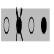correct: (40, 16, 47, 36)
not correct: (15, 5, 23, 42)
